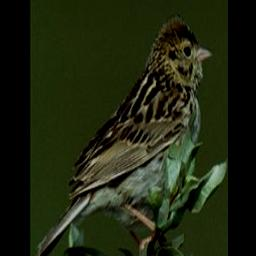Sparrow: (32, 9, 214, 256)
